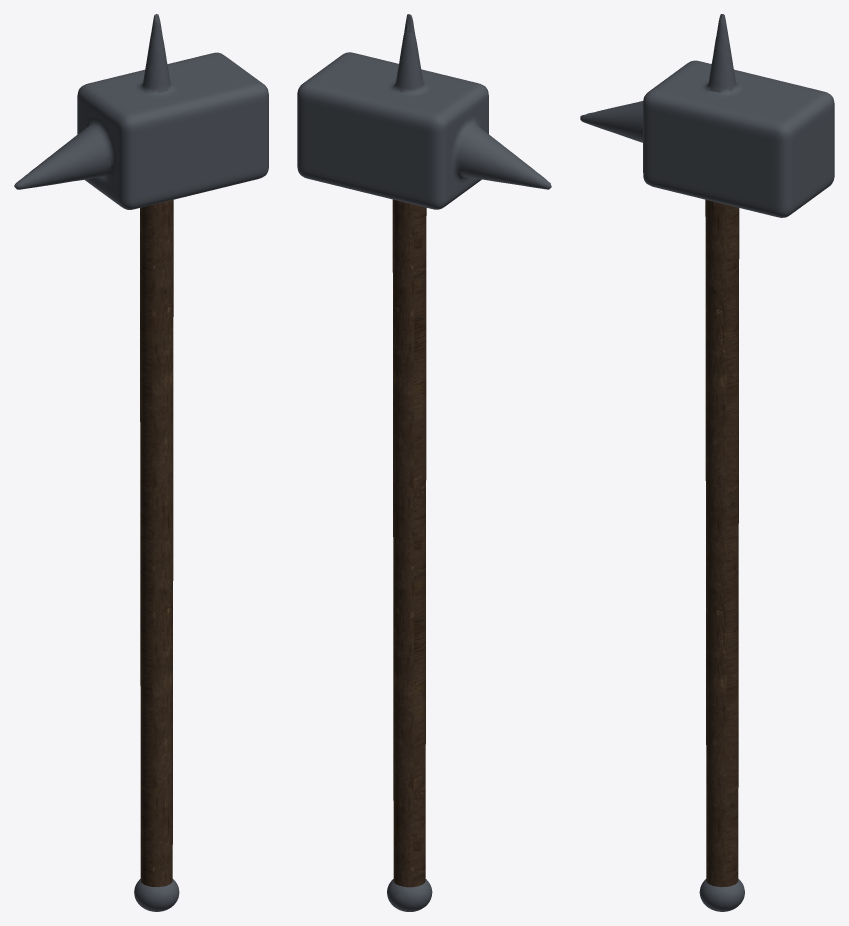
The model's file is w-hammer.glb.
3 views of the same model, side by side, from view 1: azimuth 30°, elevation 25°; view 2: azimuth 150°, elevation 25°; view 3: azimuth 330°, elevation 25° (orthographic).
Visible parts, largest first — view 1: w-hammer; view 2: w-hammer; view 3: w-hammer.
Part boxes in pixels (x1,y1,x2,y2): w-hammer: (14,14,268,911); w-hammer: (297,14,551,911); w-hammer: (580,14,834,911).
Size of the model in its own units: 0.283 by 1.04 by 0.11.
Materials: 2 (1 with a texture image).
